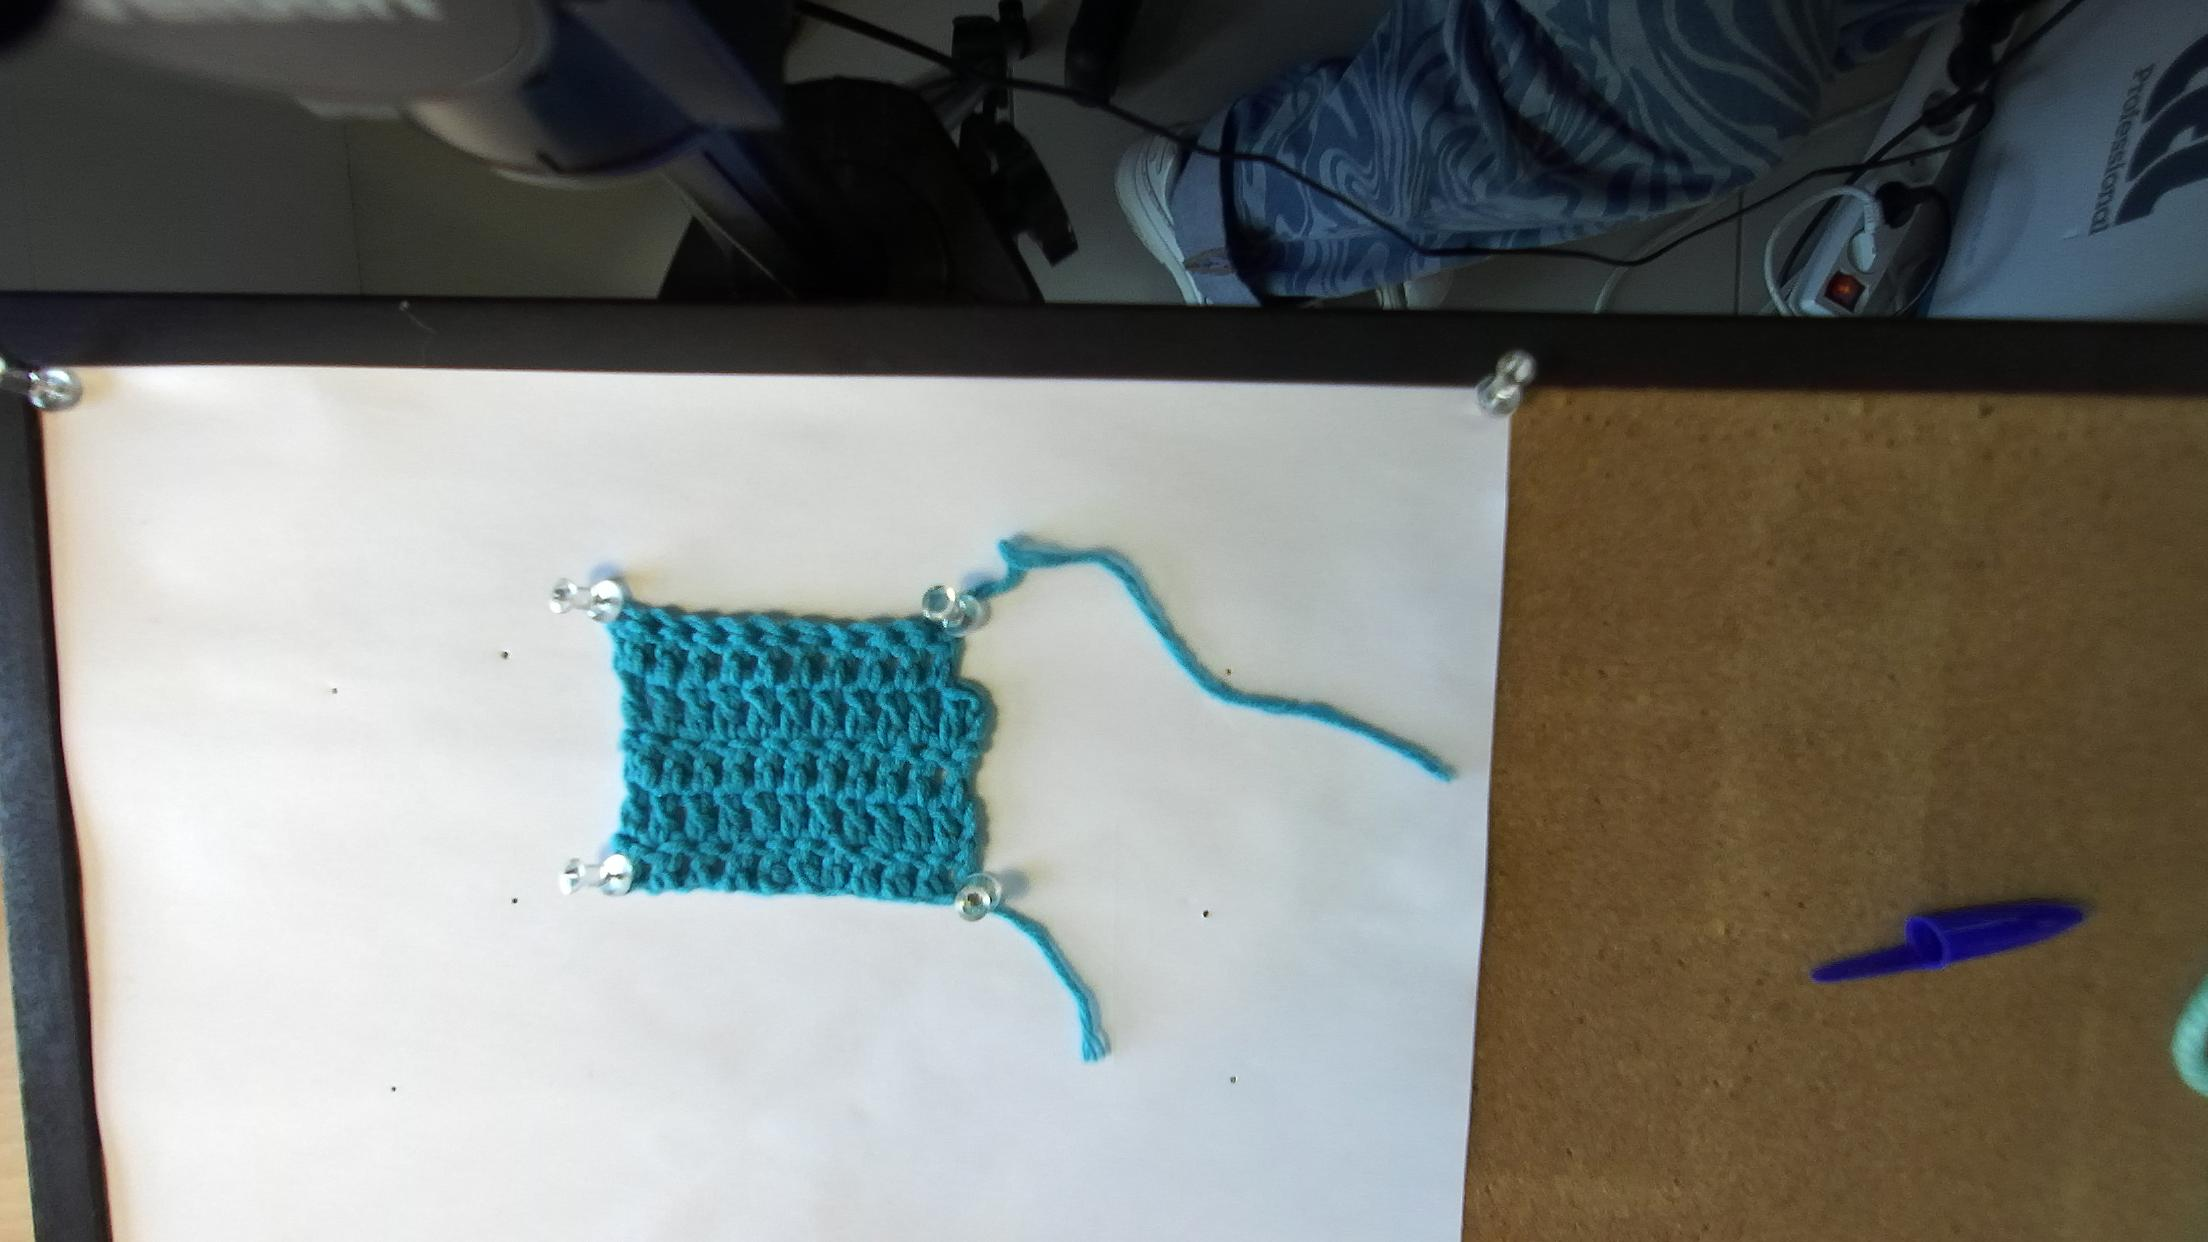hole: (673, 620, 699, 646), (781, 626, 804, 648), (643, 617, 667, 635), (713, 625, 731, 646), (748, 626, 767, 645), (887, 631, 907, 645), (852, 634, 872, 646), (822, 632, 834, 648), (930, 632, 939, 645)
swatch: (566, 597, 998, 908)
